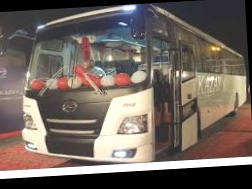bus: (0, 0, 252, 171)
